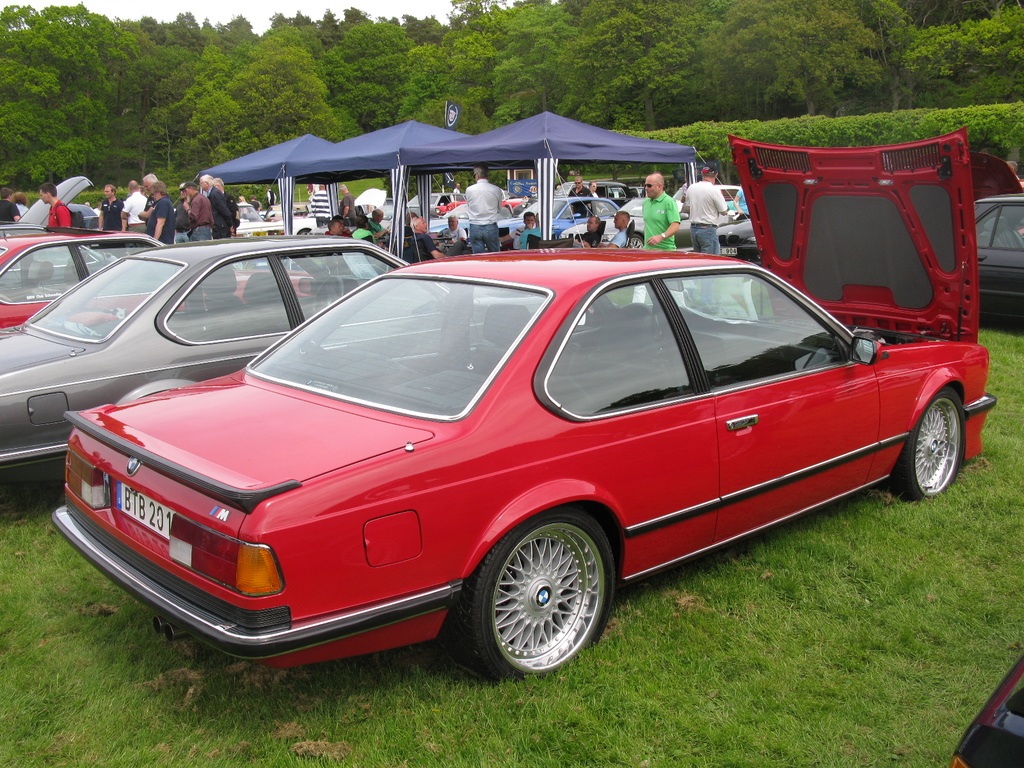Car: (0, 124, 1023, 685)
